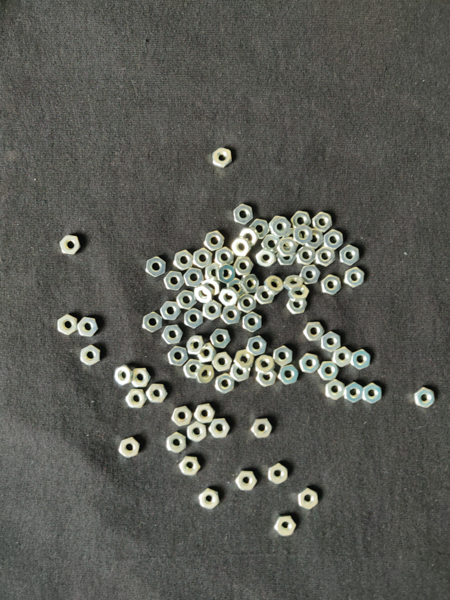nut: (414, 387, 436, 409), (275, 516, 297, 537), (298, 488, 319, 510), (80, 345, 101, 367), (233, 204, 254, 226), (199, 489, 220, 510), (255, 355, 276, 376), (215, 373, 236, 394), (176, 290, 197, 311), (321, 275, 342, 296), (312, 212, 333, 233), (212, 148, 233, 169), (167, 432, 187, 454), (209, 419, 231, 439), (251, 419, 273, 439), (146, 384, 168, 404), (77, 318, 99, 338), (58, 314, 78, 336), (162, 325, 184, 345), (300, 265, 322, 285), (256, 248, 278, 268), (268, 464, 288, 485), (180, 456, 201, 476), (119, 438, 140, 458), (187, 422, 207, 443), (195, 404, 216, 424), (172, 407, 193, 427), (126, 389, 147, 409), (60, 235, 81, 255), (278, 365, 299, 385), (333, 347, 353, 368), (273, 346, 293, 367), (246, 336, 267, 356), (212, 353, 233, 373), (183, 360, 204, 380), (168, 347, 189, 367), (197, 343, 217, 364), (210, 329, 231, 349), (143, 312, 163, 333), (243, 312, 263, 333), (221, 305, 241, 326), (345, 267, 365, 288), (164, 271, 185, 291), (146, 257, 166, 278), (193, 248, 213, 269), (205, 231, 225, 252), (315, 247, 336, 267), (340, 245, 360, 266), (324, 230, 344, 251), (250, 219, 270, 240), (294, 224, 314, 245), (230, 364, 252, 383), (160, 302, 182, 321), (351, 350, 371, 370), (322, 332, 342, 352), (234, 350, 254, 370), (194, 284, 214, 304), (174, 251, 194, 271), (231, 237, 251, 257), (304, 229, 324, 249), (236, 472, 257, 491), (114, 365, 133, 386), (318, 362, 339, 381), (299, 354, 320, 373), (304, 323, 325, 342), (203, 300, 222, 321), (184, 308, 203, 329), (217, 263, 236, 284), (256, 370, 278, 388), (288, 285, 310, 303), (132, 368, 151, 388), (363, 384, 382, 404), (345, 383, 364, 403), (196, 365, 215, 385), (187, 336, 207, 355), (238, 294, 257, 314), (256, 286, 276, 305), (184, 269, 204, 288), (240, 228, 260, 247), (278, 238, 298, 257), (283, 229, 303, 248), (272, 218, 292, 237), (219, 288, 240, 306), (326, 381, 345, 400), (265, 276, 284, 295), (215, 247, 234, 266), (277, 247, 296, 266), (297, 247, 316, 266), (206, 263, 224, 283), (234, 257, 254, 275), (262, 235, 282, 253), (292, 211, 312, 229), (287, 298, 308, 315), (240, 275, 259, 293), (227, 279, 245, 297), (202, 279, 221, 296), (284, 275, 304, 291)
